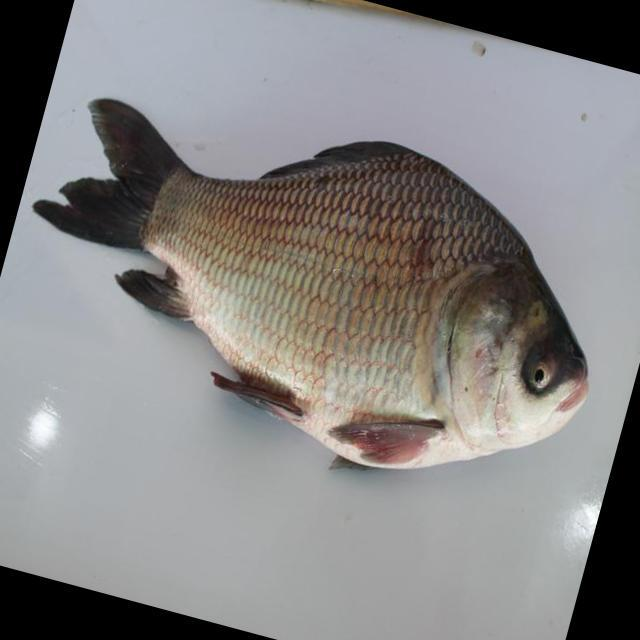Catla: (33, 85, 597, 467)
